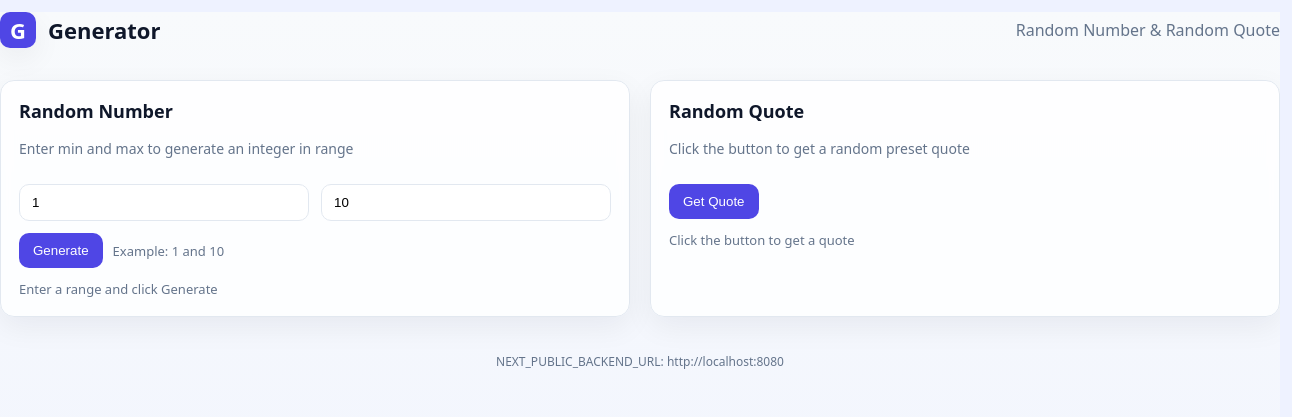
Test: Page interactions › generate random number successfully
Click the button "Generate" at point(61, 250), box [19,233,103,268]
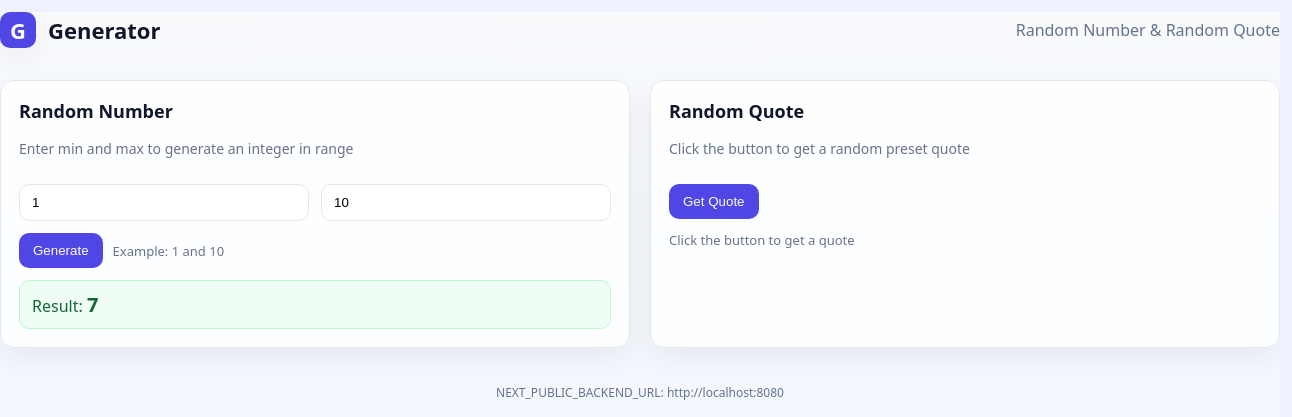
Expected: the text "Result: 7" is shown, [19,280,611,329]
